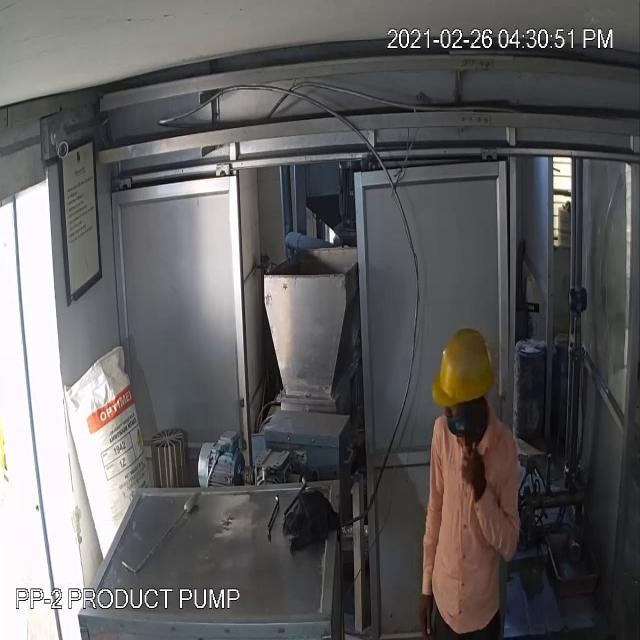helmet: (425, 321, 502, 415)
